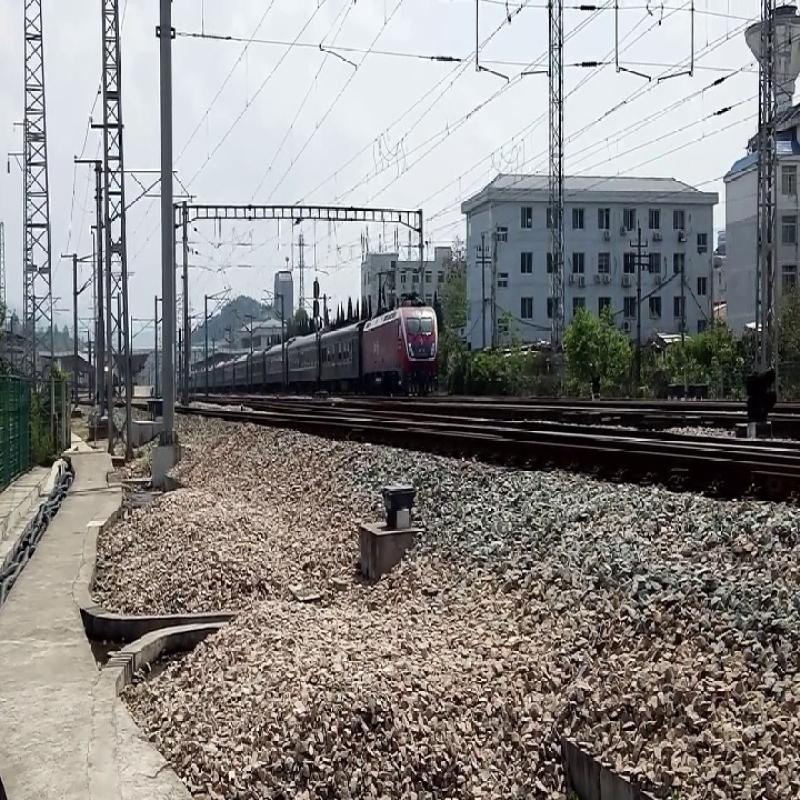train: (312, 305, 447, 399)
